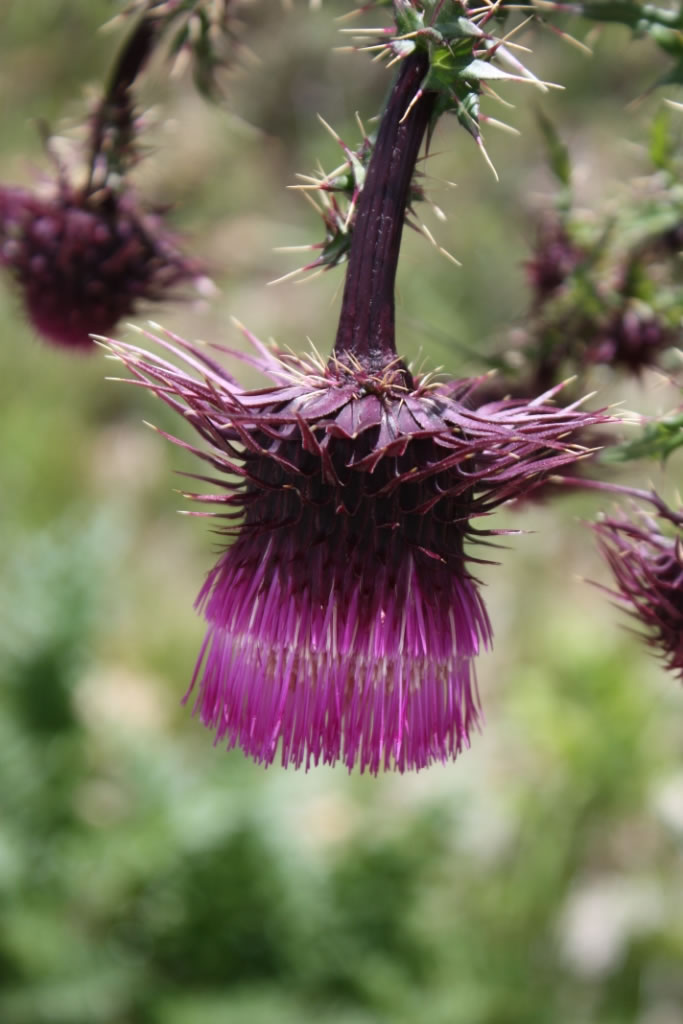thistle: (114, 309, 611, 805), (5, 116, 192, 344)
